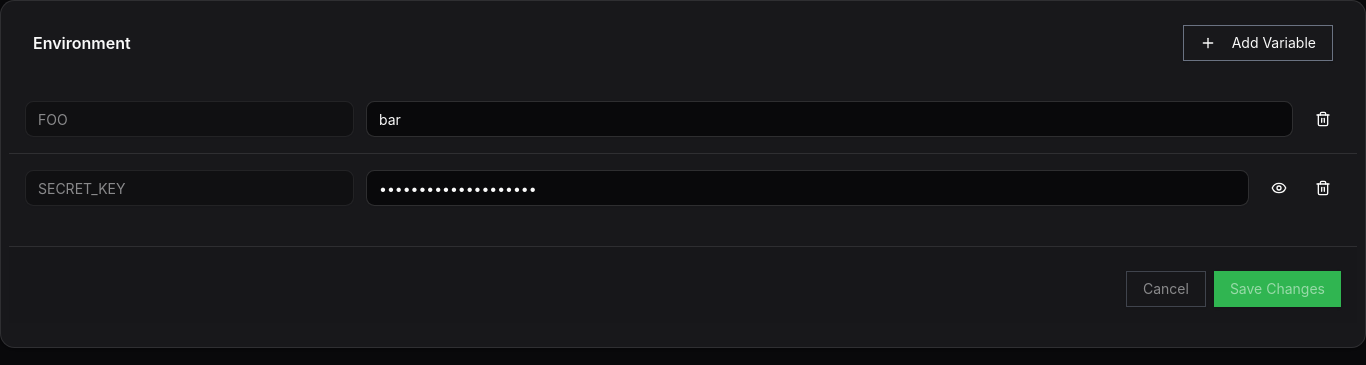
AppEnvPage › reverts local changes after cancel
Replace the text in the field showing "bar" with "baz" at (830, 119), box 366,101 -> 1293,137
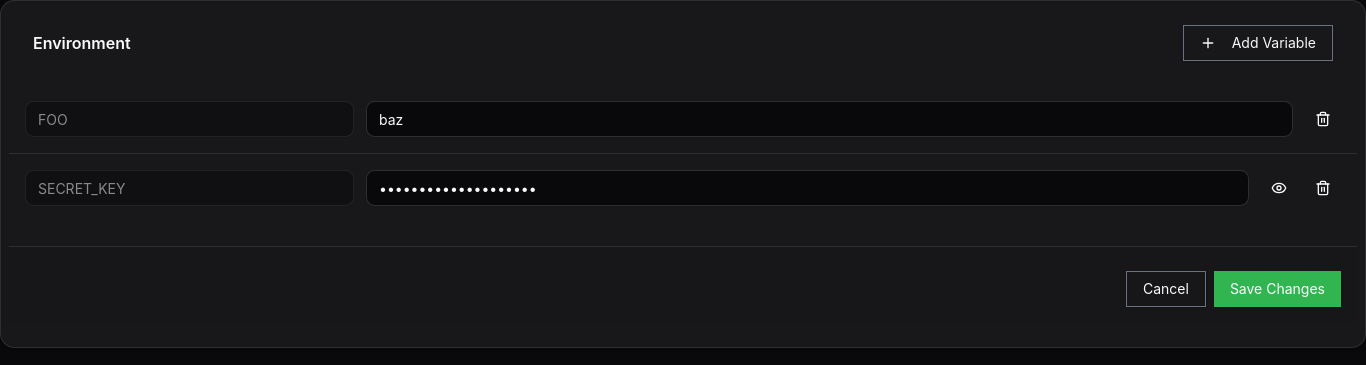
Click the button "Cancel" at (1166, 289), box 1126,271 -> 1206,307
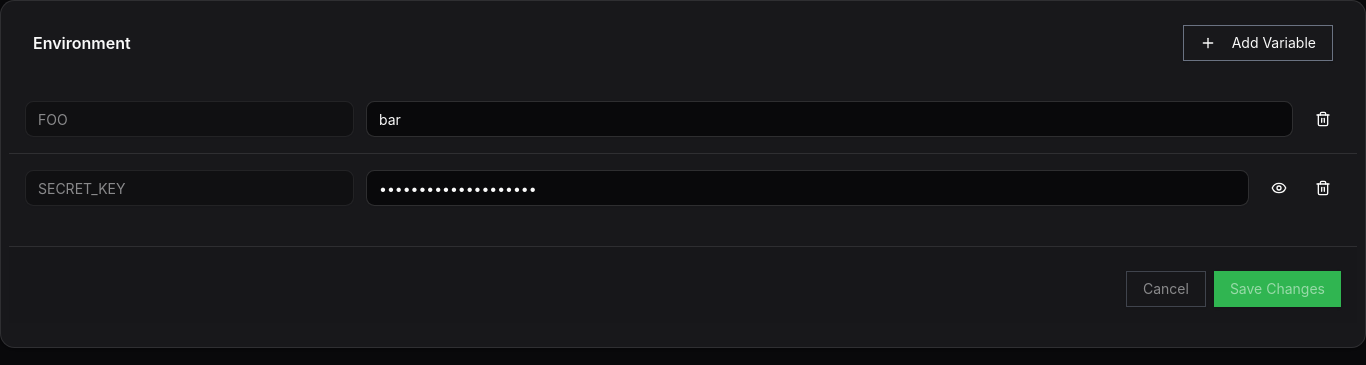
Expected: the field showing "baz" is not shown
Now the field showing "bar" is shown, box 366,101 -> 1293,137
